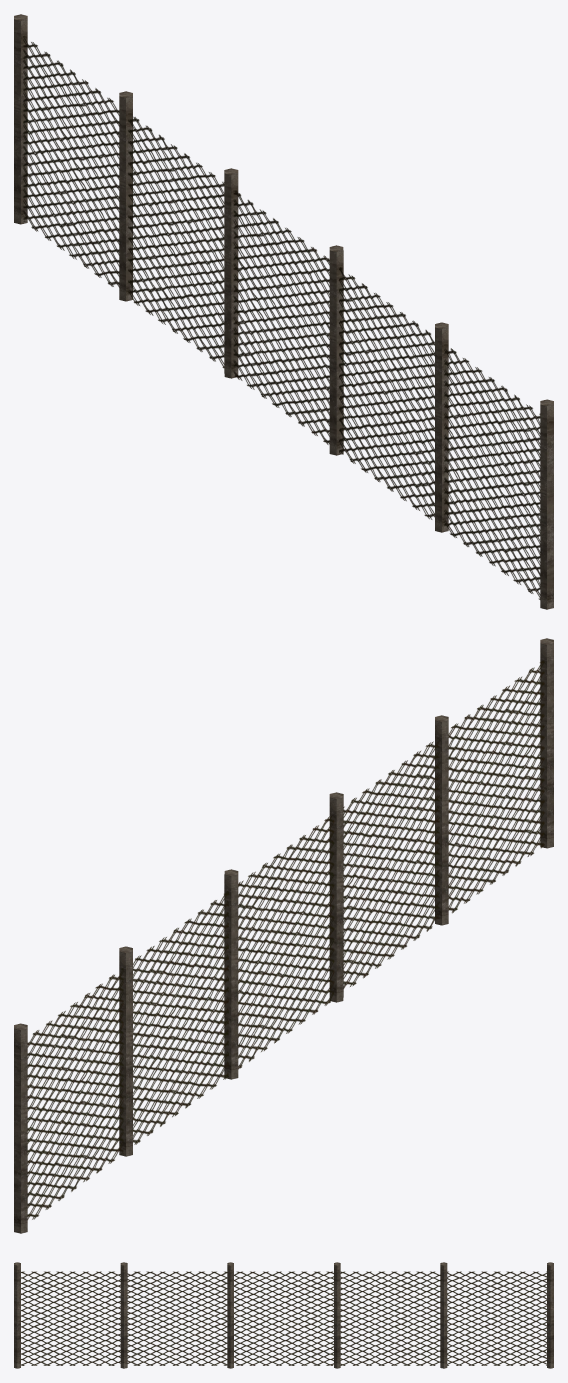
File: red.glb
The picture shows the model from 3 angles, top to bottom: view 1: azimuth 30°, elevation 25°; view 2: azimuth 150°, elevation 25°; view 3: azimuth 270°, elevation 25°; orthographic projection. The views are drawn at different scales.
Visible parts, largest first — view 1: RedesPesca_RedeMaterial_0, RedesPesca_Madeira_0; view 2: RedesPesca_RedeMaterial_0, RedesPesca_Madeira_0; view 3: RedesPesca_RedeMaterial_0, RedesPesca_Madeira_0.
Boxes of the visible parts, bbox=[...] form: RedesPesca_RedeMaterial_0: bbox=[23, 36, 540, 599]; RedesPesca_Madeira_0: bbox=[14, 14, 553, 609]; RedesPesca_RedeMaterial_0: bbox=[27, 660, 544, 1219]; RedesPesca_Madeira_0: bbox=[14, 638, 553, 1233]; RedesPesca_RedeMaterial_0: bbox=[21, 1271, 546, 1365]; RedesPesca_Madeira_0: bbox=[14, 1262, 553, 1368].
Bounding box in the file's own units: 1.21 × 17.08 × 81.04.
Materials: 2 (2 with a texture image).
